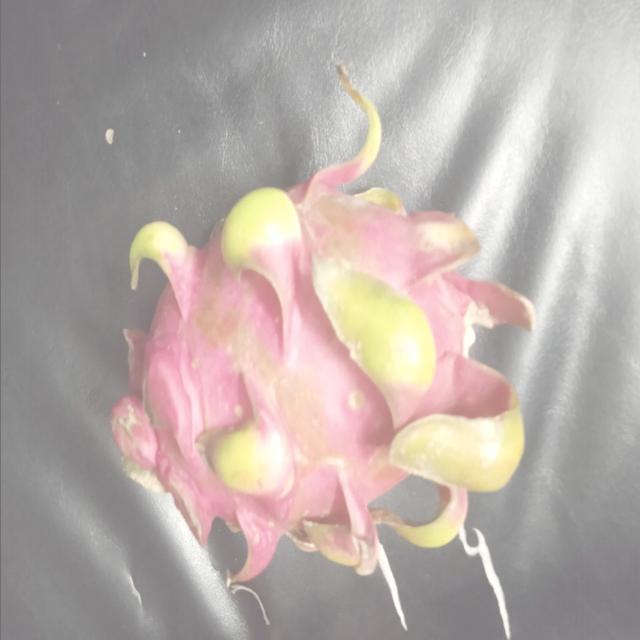do: (114, 68, 533, 592)
